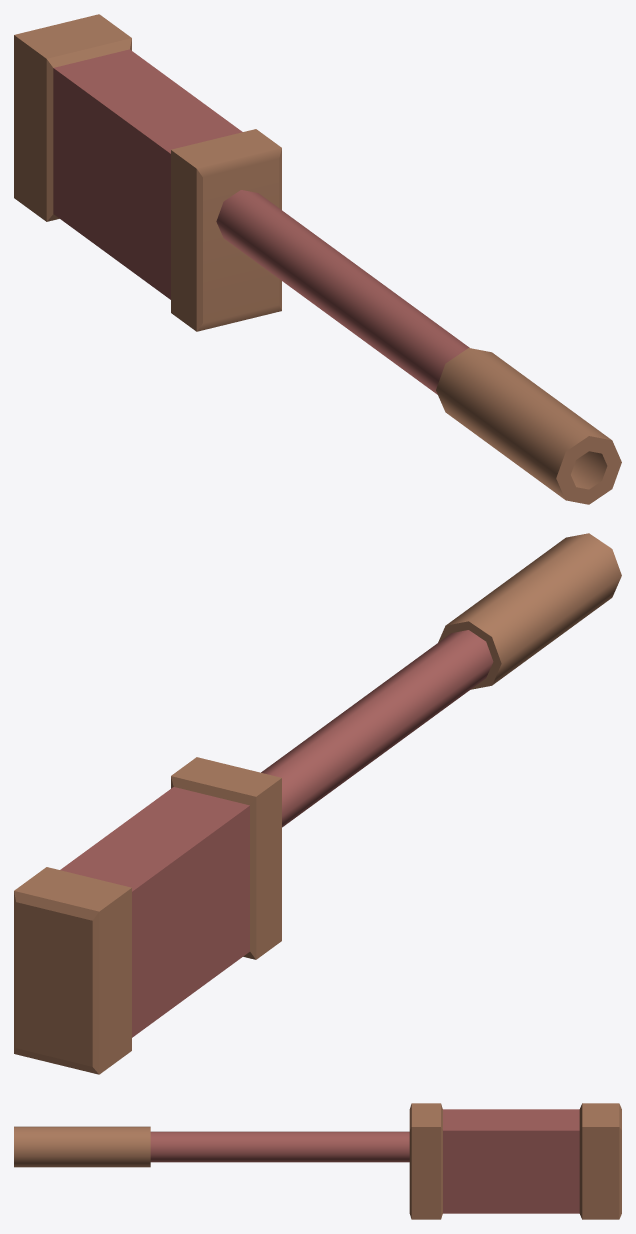
Rendered from gun1.fbx.
The picture shows the model from 3 angles, top to bottom: view 1: azimuth 30°, elevation 25°; view 2: azimuth 150°, elevation 25°; view 3: azimuth 270°, elevation 25°; orthographic projection. The views are drawn at different scales.
Parts seen in each view (by area): view 1: pCube3; view 2: pCube3; view 3: pCube3.
Part boxes in pixels (box(x1,y1,x2,y2)): pCube3: box(14, 14, 621, 504); pCube3: box(14, 533, 621, 1074); pCube3: box(14, 1103, 621, 1219).
Size of the model in its own units: 0.8443 by 1.54 by 9.16.
